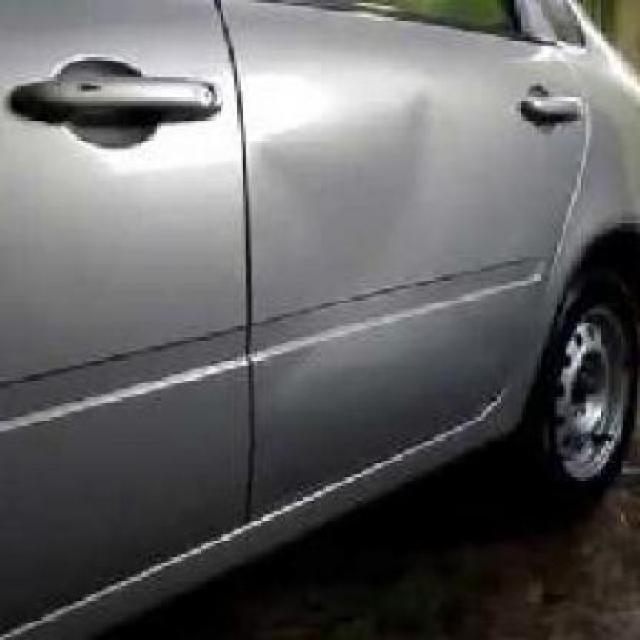dent-or-scratch: (252, 89, 470, 328)
